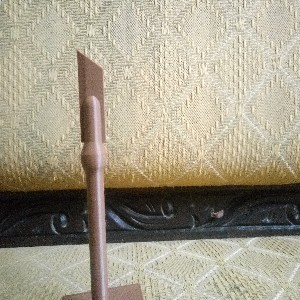cutter: (75, 49, 110, 300)
